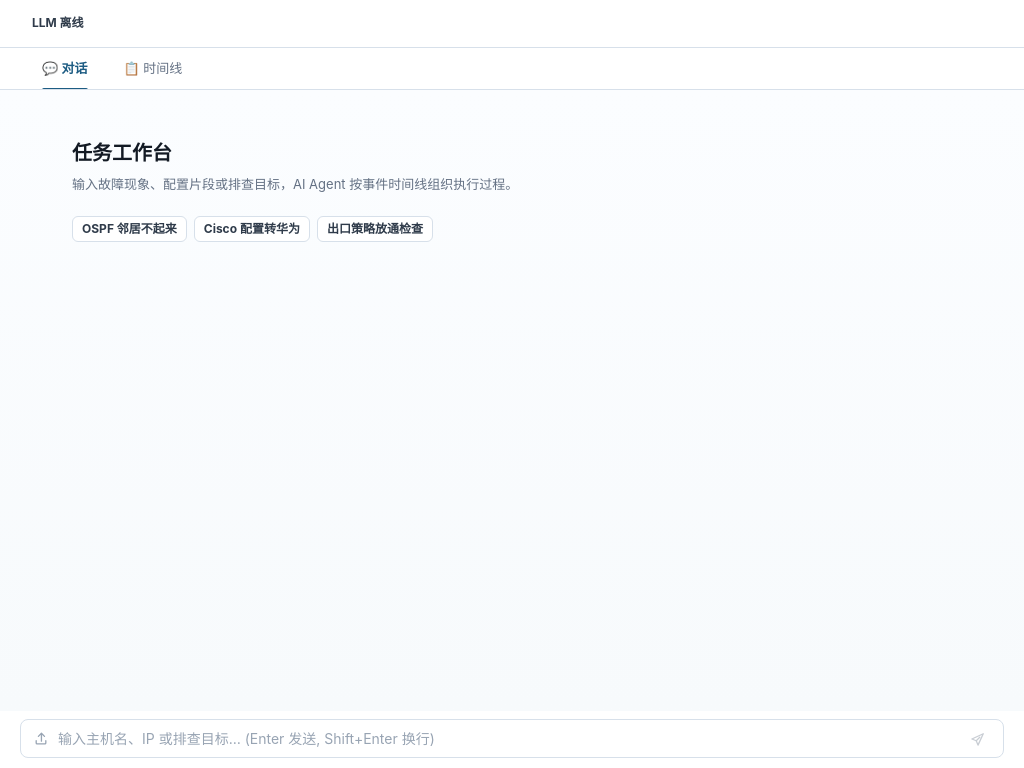
Experience polish › fills a clear prompt from a quick chip
Click the button "出口策略放通检查": (375, 229) [317,216,433,242]
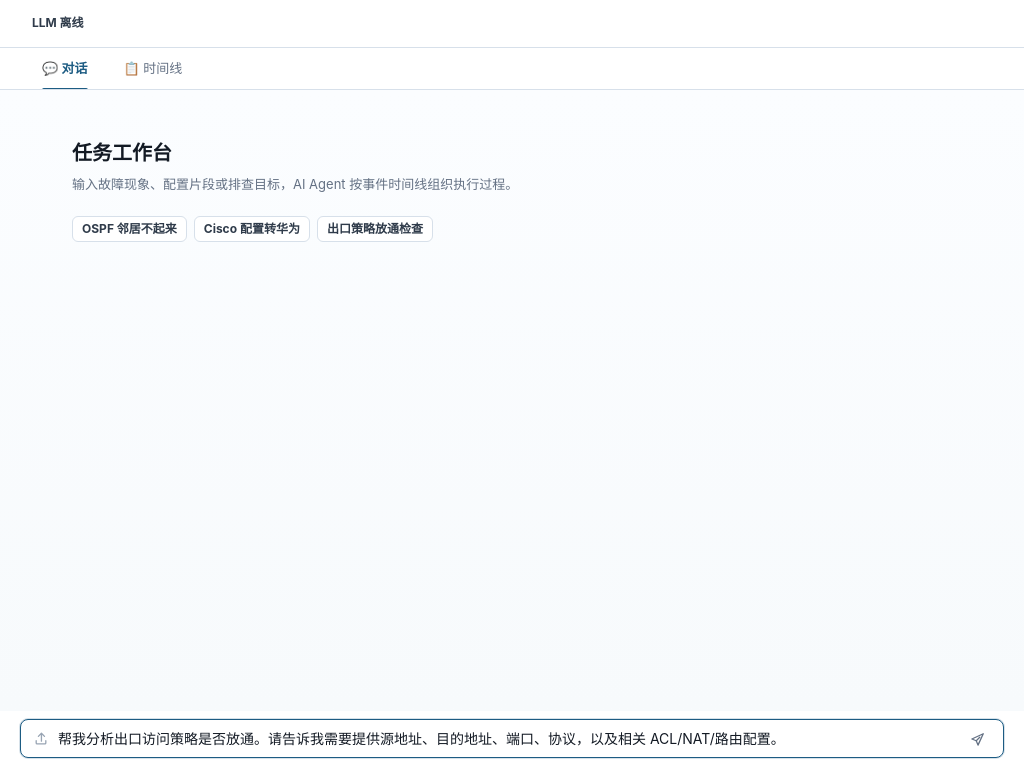
Check: the text box with test id "chat-input" holds "帮我分析出口访问策略是否放通。请告诉我需要提供源地址、目的地址、端口、协议，以及相关 ACL/NAT/路由配置。", box [58,720,959,757]
